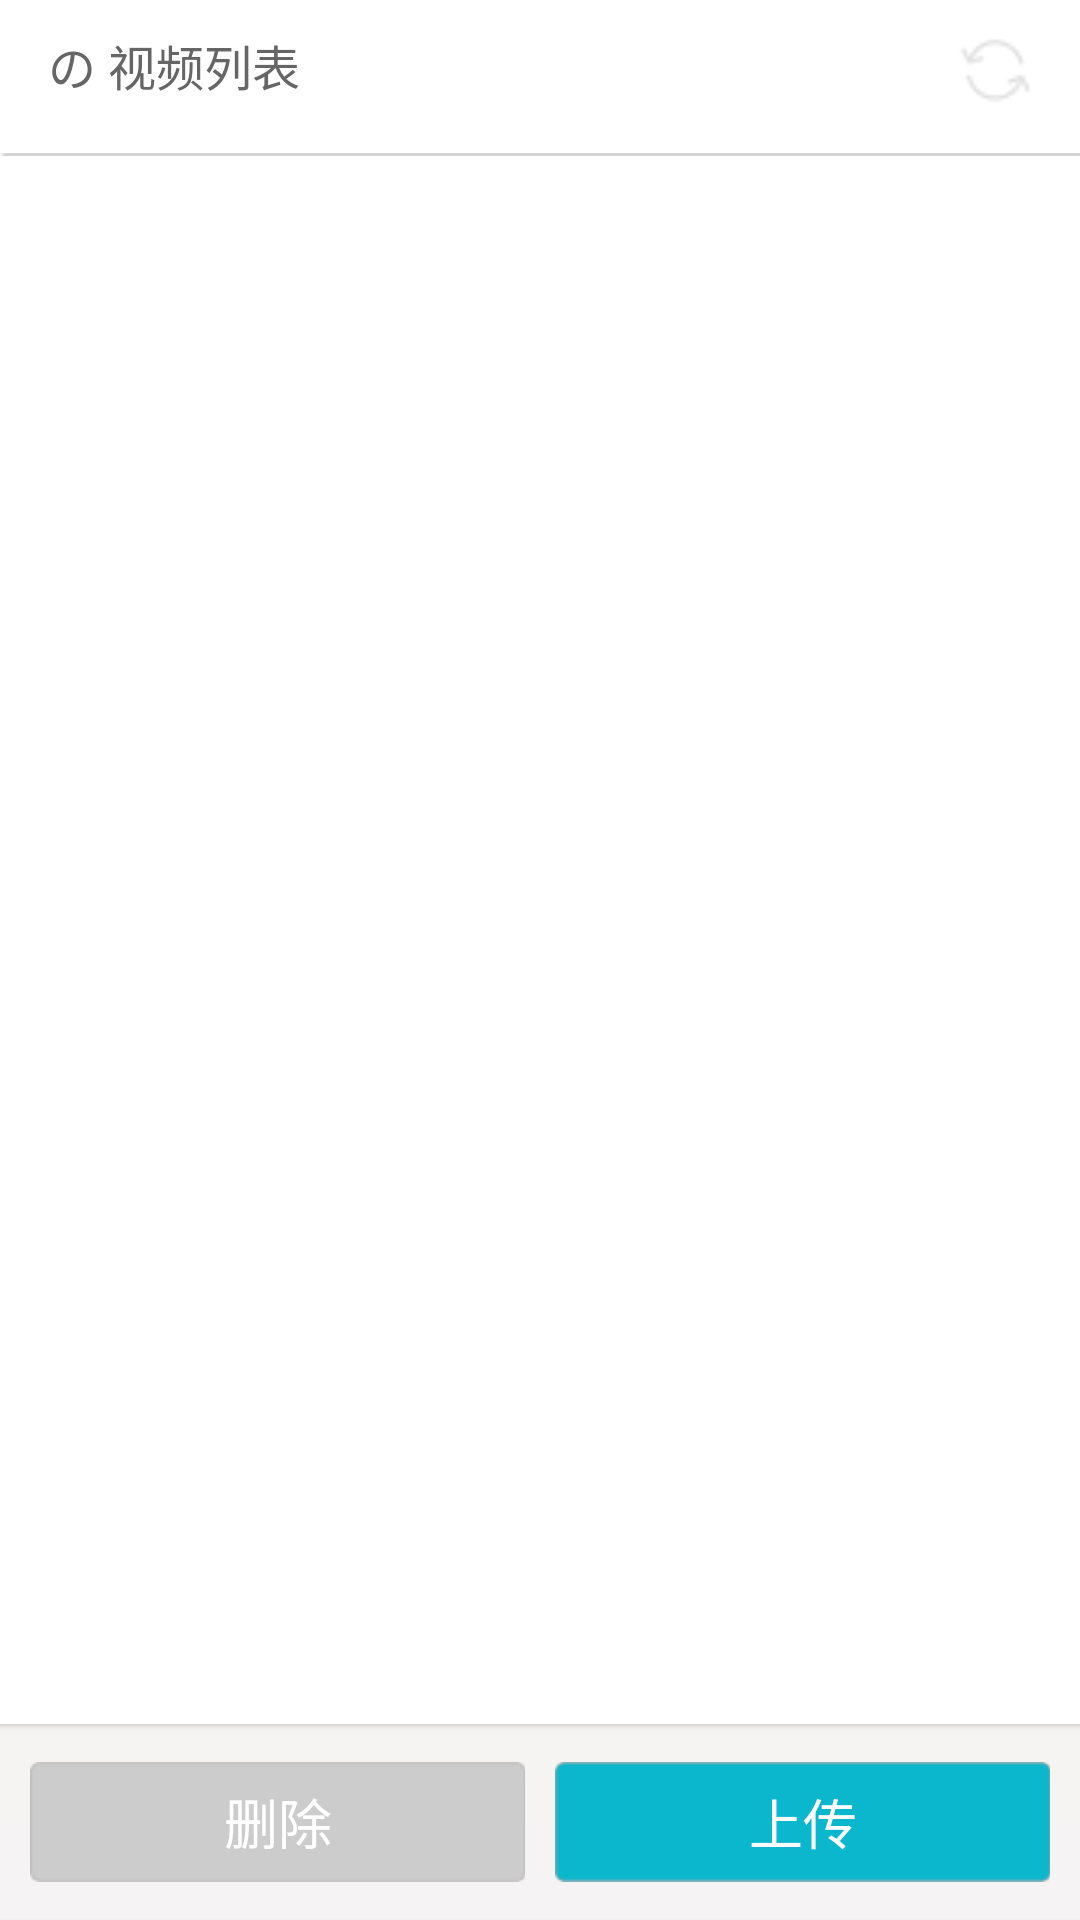

Screen size 1080 x 1920. Icon name, then its box in pixels as (x1, y1, x2, y2):
reload: (964, 41, 1028, 97)
